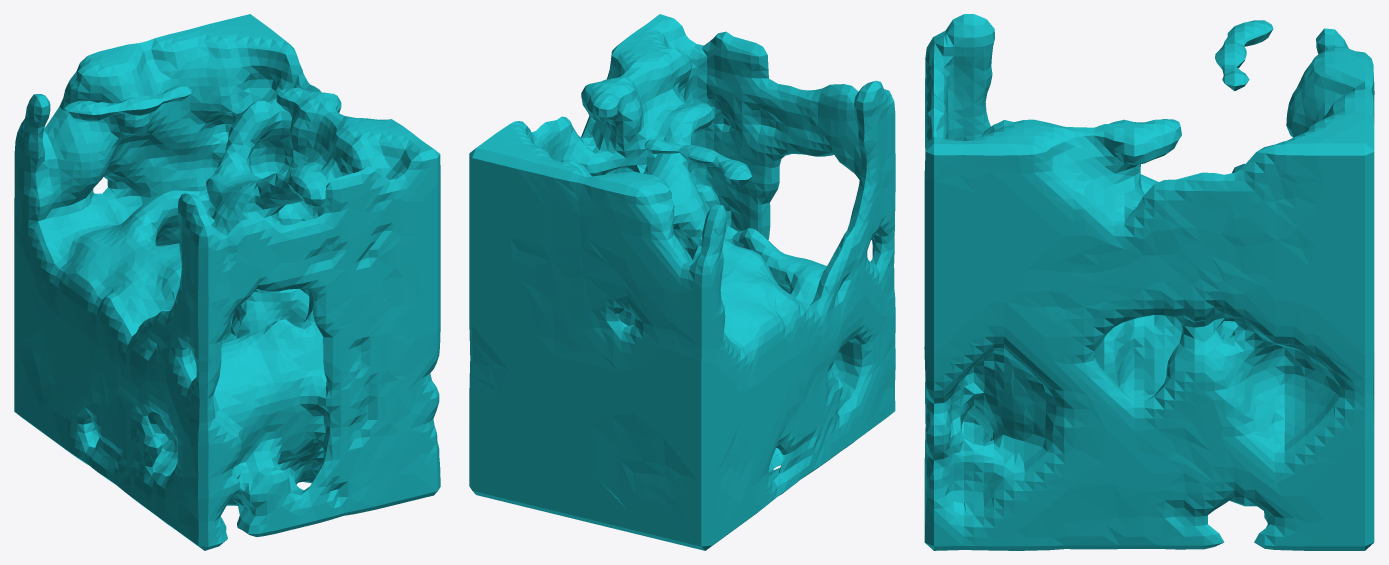
3 views of the same model, side by side, from view 1: azimuth 30°, elevation 25°; view 2: azimuth 150°, elevation 25°; view 3: azimuth 270°, elevation 25° (orthographic). The views are drawn at different scales.
Visible parts, largest first — view 1: Liquid_Domain; view 2: Liquid_Domain; view 3: Liquid_Domain.
Boxes of the visible parts, left/top/right/bottom form: Liquid_Domain: left=14, top=14, right=440, bottom=550; Liquid_Domain: left=469, top=14, right=895, bottom=550; Liquid_Domain: left=924, top=14, right=1374, bottom=550.
Size of the model in its own units: 79.13 by 108 by 108.
